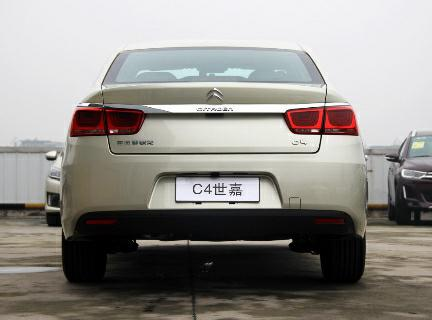雪铁龙-C4世嘉: (56, 43, 375, 291)
